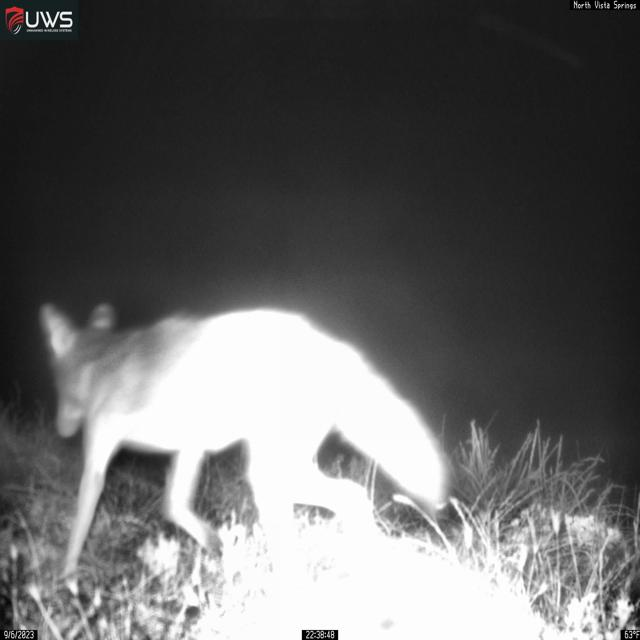coyote: (37, 297, 456, 592)
